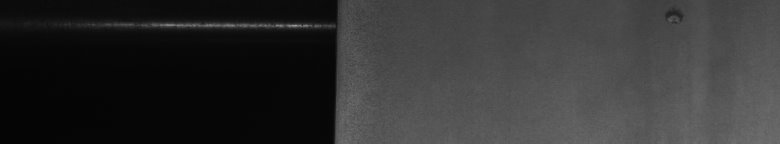fi: (665, 4, 684, 28)
